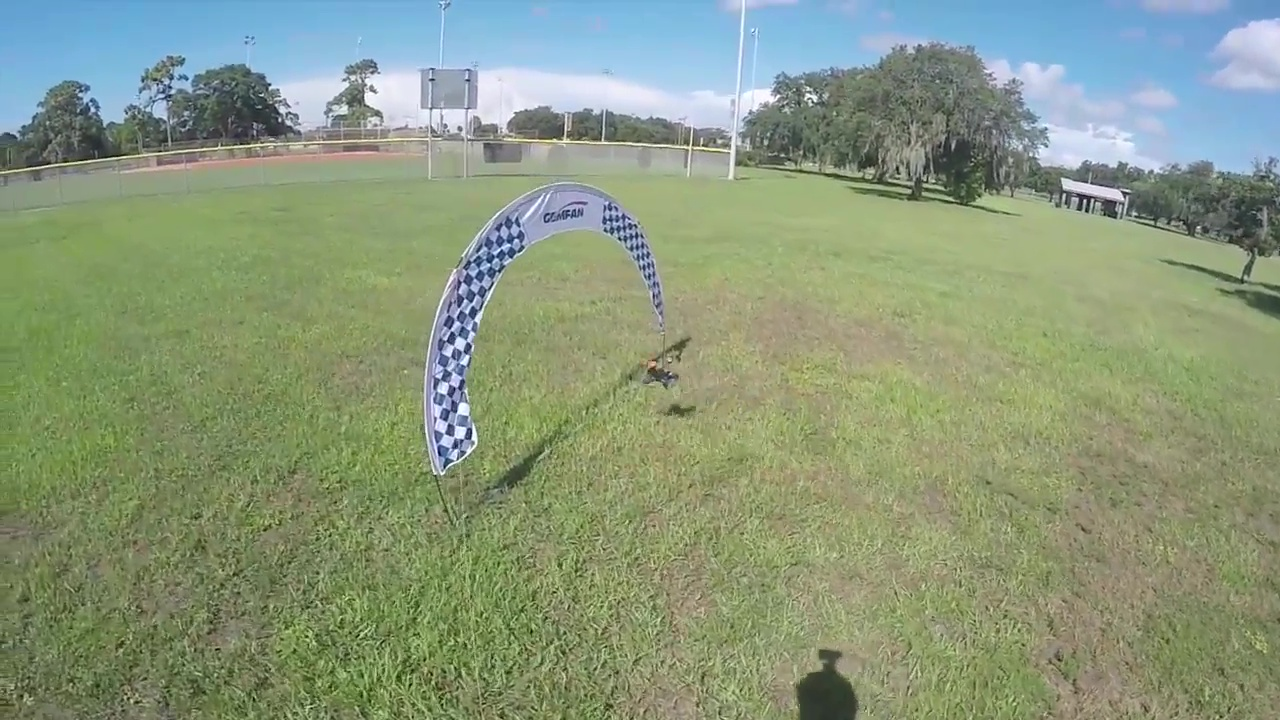gate: (418, 178, 672, 472)
